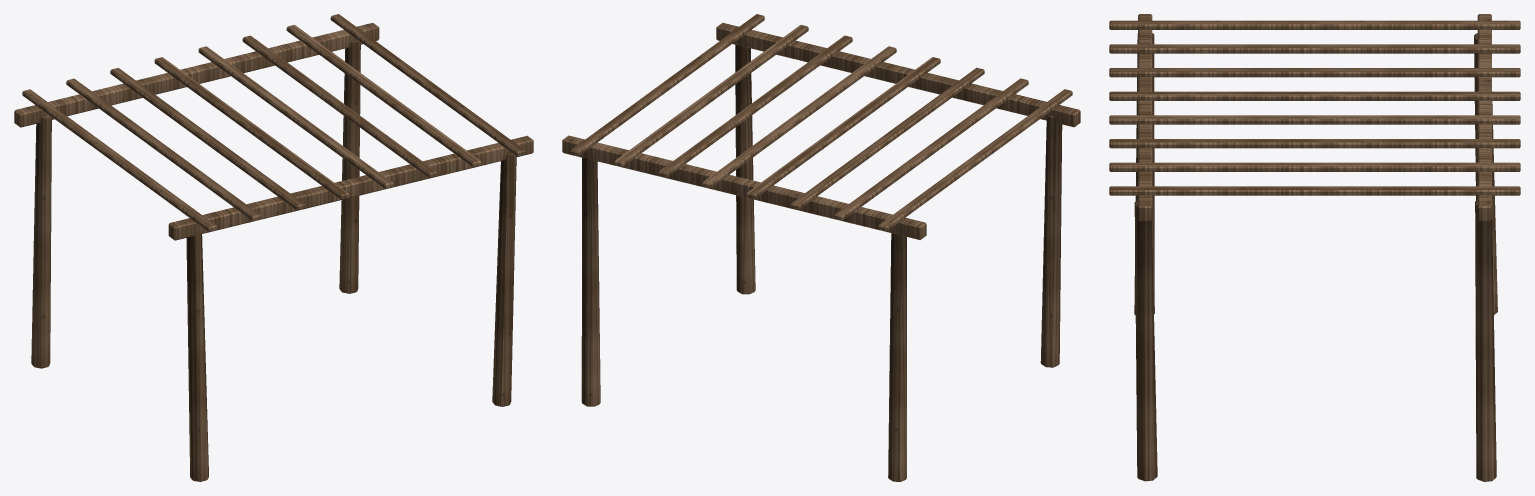
The model's file is p_pergola.glb.
The picture shows the model from 3 angles, left to right: view 1: azimuth 30°, elevation 25°; view 2: azimuth 150°, elevation 25°; view 3: azimuth 270°, elevation 25°; orthographic projection. The views are drawn at different scales.
Parts seen in each view (by area): view 1: pergola; view 2: pergola; view 3: pergola.
Boxes of the visible parts, x1,y1,x2,y2 form: pergola: (14, 14, 533, 481); pergola: (562, 14, 1080, 481); pergola: (1109, 14, 1520, 481).
Size of the model in its own units: 3.5 by 2.46 by 3.15.
1 material, 1 textured.
